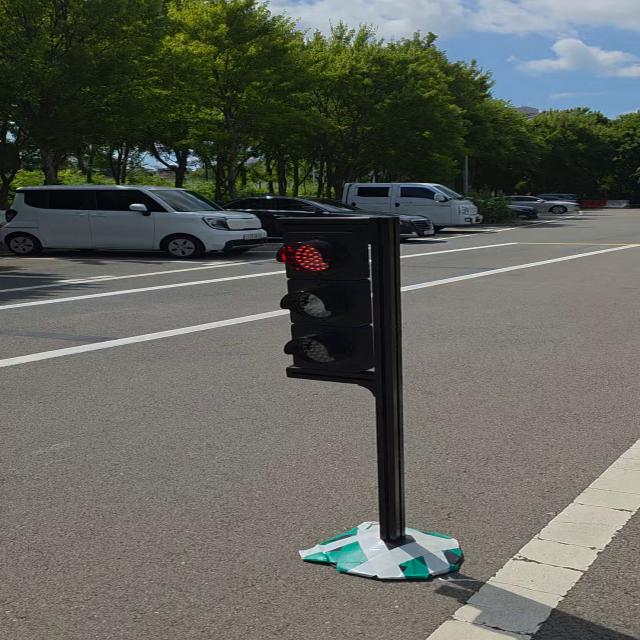red: (274, 221, 390, 386)
